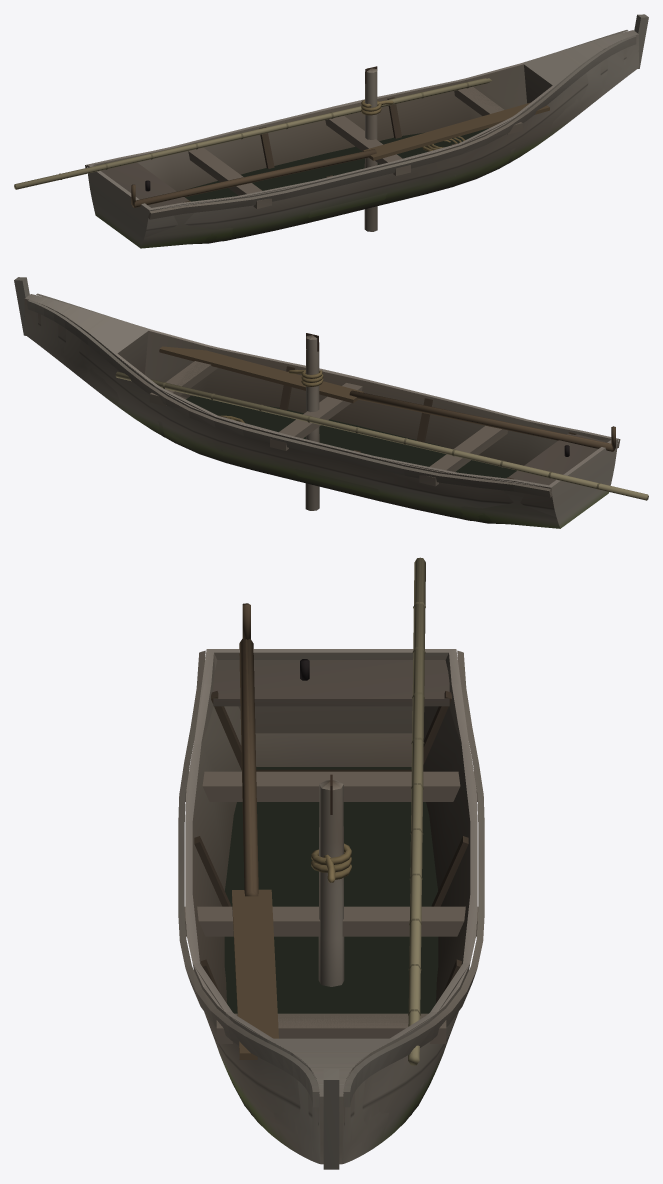
The model's file is boat.glb.
3 renders of one model, top to bottom at view 1: azimuth 30°, elevation 25°; view 2: azimuth 150°, elevation 25°; view 3: azimuth 270°, elevation 25°, orthographic. The views are drawn at different scales.
Parts seen in each view (by area): view 1: boat, boat_far, boat_mask, stake; view 2: boat, boat_far, boat_mask, stake; view 3: boat, boat_far, boat_mask, stake.
Boxes of the visible parts, bbox=[...] form: boat: bbox=[14, 14, 648, 248]; boat_far: bbox=[14, 33, 638, 248]; boat_mask: bbox=[185, 128, 488, 201]; stake: bbox=[361, 66, 393, 231]; boat: bbox=[14, 277, 648, 528]; boat_far: bbox=[24, 297, 647, 528]; boat_mask: bbox=[186, 396, 516, 478]; stake: bbox=[288, 333, 323, 510]; boat: bbox=[178, 558, 484, 1164]; boat_far: bbox=[184, 557, 478, 1169]; boat_mask: bbox=[224, 767, 438, 1013]; stake: bbox=[311, 774, 351, 986].
Size of the model in its own units: 5.29 by 1.34 by 1.15.
